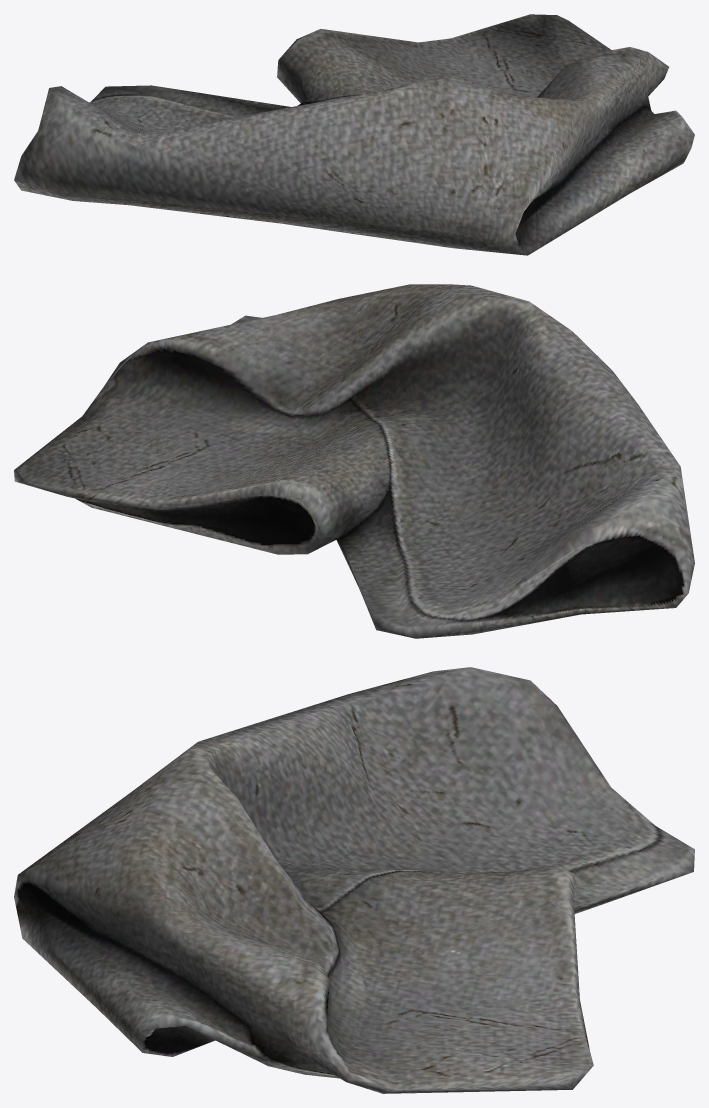
File: towel_floor.DAE
3 renders of one model, top to bottom at view 1: azimuth 30°, elevation 25°; view 2: azimuth 150°, elevation 25°; view 3: azimuth 270°, elevation 25°, orthographic. The views are drawn at different scales.
Visible parts, largest first — view 1: floor1; view 2: floor1; view 3: floor1.
Part boxes in pixels (x1,y1,x2,y2): floor1: (14, 14, 694, 255); floor1: (14, 284, 694, 638); floor1: (14, 667, 694, 1093).
Size of the model in its own units: 1.07 by 0.2411 by 0.8756.
